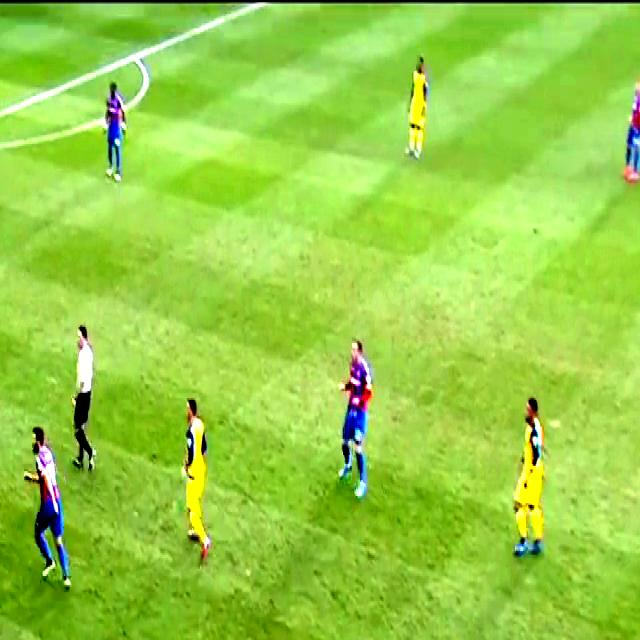referee: (56, 323, 110, 477)
soccer-player: (14, 422, 92, 598), (319, 332, 390, 507), (495, 388, 562, 564), (168, 389, 227, 558), (89, 76, 136, 188), (396, 52, 439, 169), (615, 70, 640, 194)
